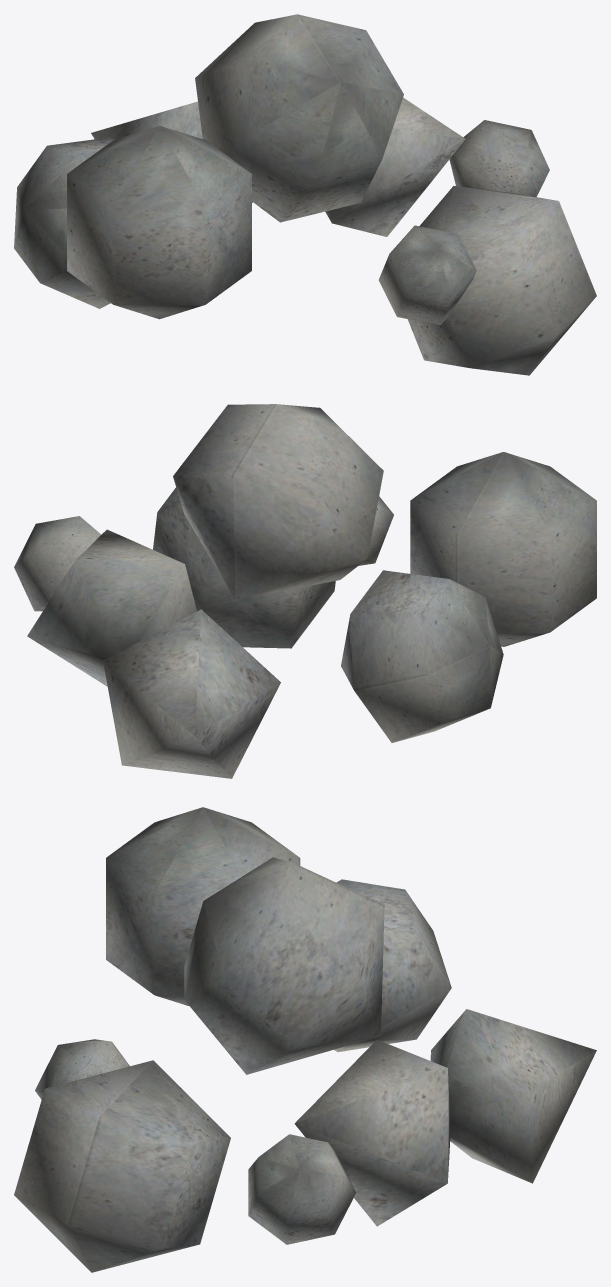
File: stone1.obj
3 renders of one model, top to bottom at view 1: azimuth 30°, elevation 25°; view 2: azimuth 150°, elevation 25°; view 3: azimuth 270°, elevation 25°, orthographic. The views are drawn at different scales.
Visible parts, largest first — view 1: Sphere005, Sphere001, Sphere008, Sphere004, Sphere003, Sphere002, Sphere006, Sphere007; view 2: Sphere005, Sphere001, Sphere004, Sphere007, Sphere003, Sphere008, Sphere006, Sphere002; view 3: Sphere005, Sphere008, Sphere001, Sphere003, Sphere007, Sphere006, Sphere004, Sphere002.
Part boxes in pixels (x1=…): Sphere005: x1=195, y1=14, x2=403, y2=222; Sphere001: x1=67, y1=125, x2=251, y2=319; Sphere008: x1=407, y1=186, x2=596, y2=375; Sphere004: x1=14, y1=137, x2=114, y2=308; Sphere003: x1=325, y1=97, x2=465, y2=236; Sphere002: x1=378, y1=225, x2=476, y2=325; Sphere006: x1=449, y1=120, x2=549, y2=196; Sphere007: x1=91, y1=101, x2=252, y2=202; Sphere005: x1=173, y1=404, x2=383, y2=599; Sphere001: x1=410, y1=452, x2=596, y2=646; Sphere004: x1=341, y1=570, x2=503, y2=742; Sphere007: x1=103, y1=609, x2=280, y2=778; Sphere003: x1=27, y1=529, x2=196, y2=686; Sphere008: x1=153, y1=487, x2=335, y2=648; Sphere006: x1=14, y1=516, x2=101, y2=611; Sphere002: x1=358, y1=496, x2=393, y2=565; Sphere005: x1=184, y1=857, x2=384, y2=1074; Sphere008: x1=14, y1=1060, x2=230, y2=1272; Sphere001: x1=106, y1=807, x2=300, y2=1006; Sphere003: x1=294, y1=1039, x2=450, y2=1226; Sphere007: x1=430, y1=1009, x2=596, y2=1183; Sphere006: x1=248, y1=1134, x2=356, y2=1244; Sphere004: x1=334, y1=879, x2=451, y2=1052; Sphere002: x1=35, y1=1039, x2=129, y2=1099.
Bounding box in the file's own units: 77.94 × 48.14 × 74.81.
Materials: 1 (1 with a texture image).
